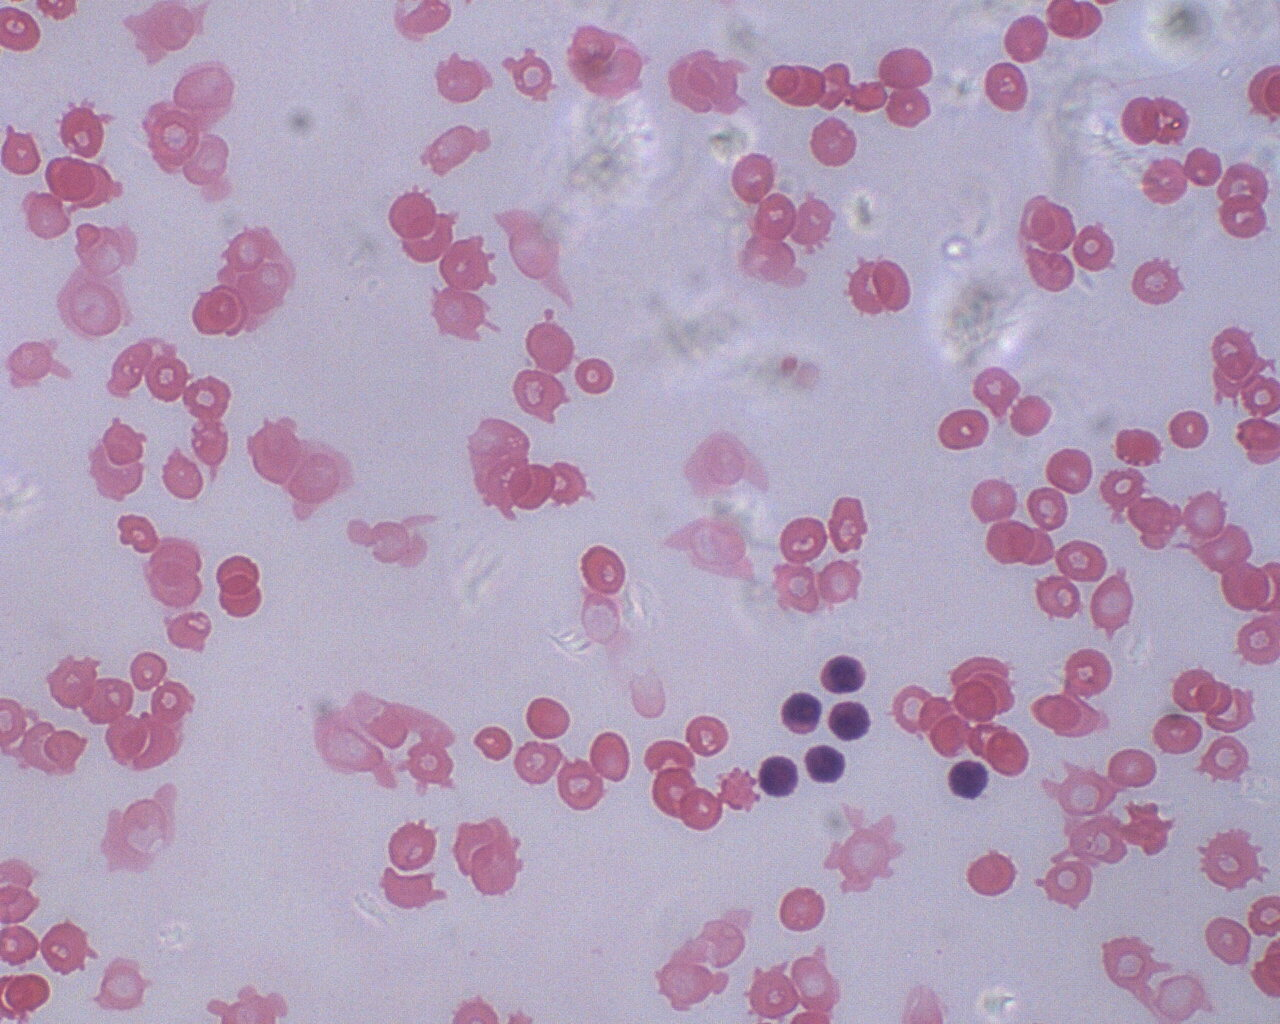lymph: (775, 686, 827, 742), (754, 749, 801, 801), (819, 648, 872, 693), (948, 755, 996, 805), (805, 740, 854, 786), (830, 696, 872, 743)
